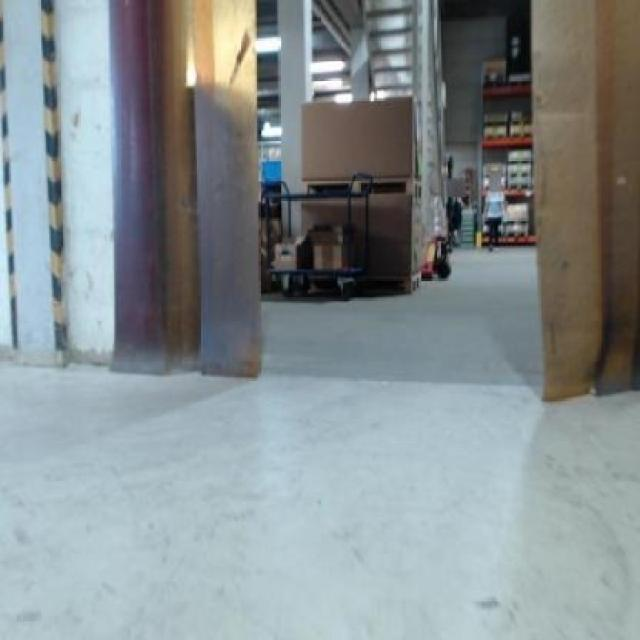floor: (0, 246, 637, 637)
pallets: (258, 95, 415, 294), (274, 95, 414, 292)
